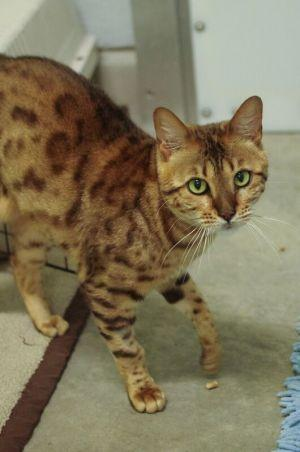bengal: (146, 93, 287, 245)
